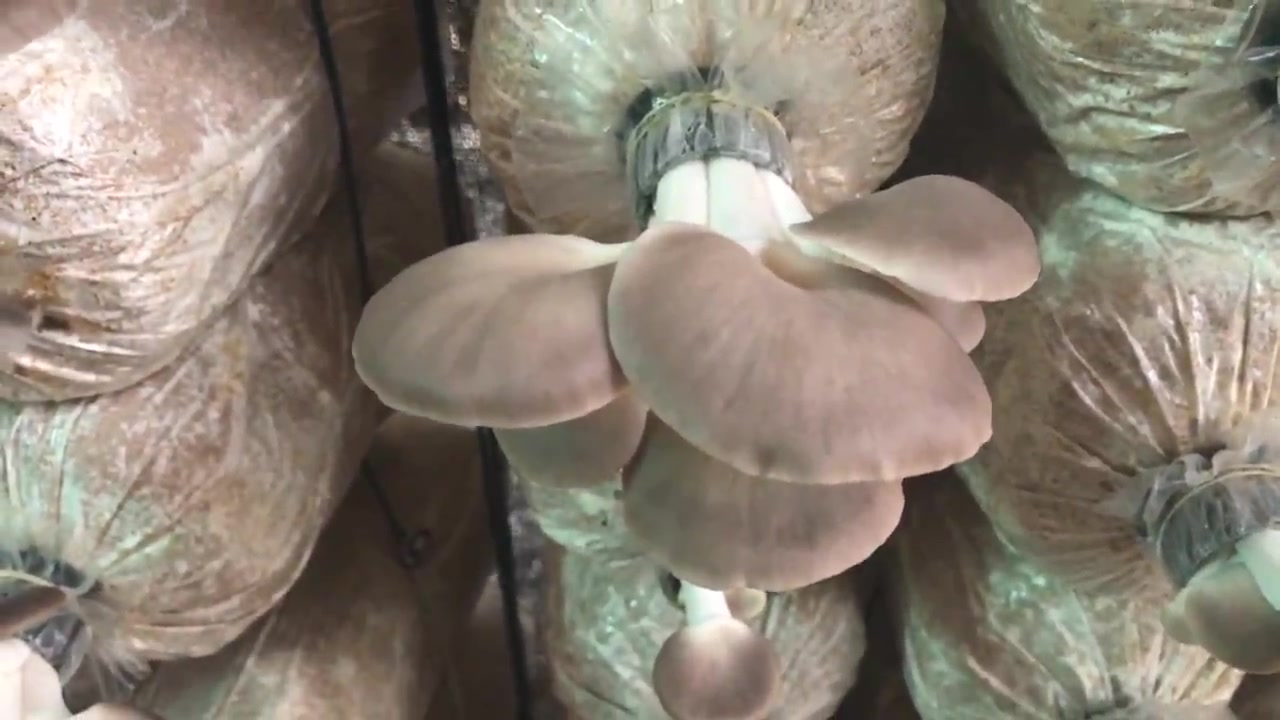nam: (355, 101, 1038, 591), (1161, 473, 1280, 672), (1, 580, 140, 720), (653, 566, 773, 720)
